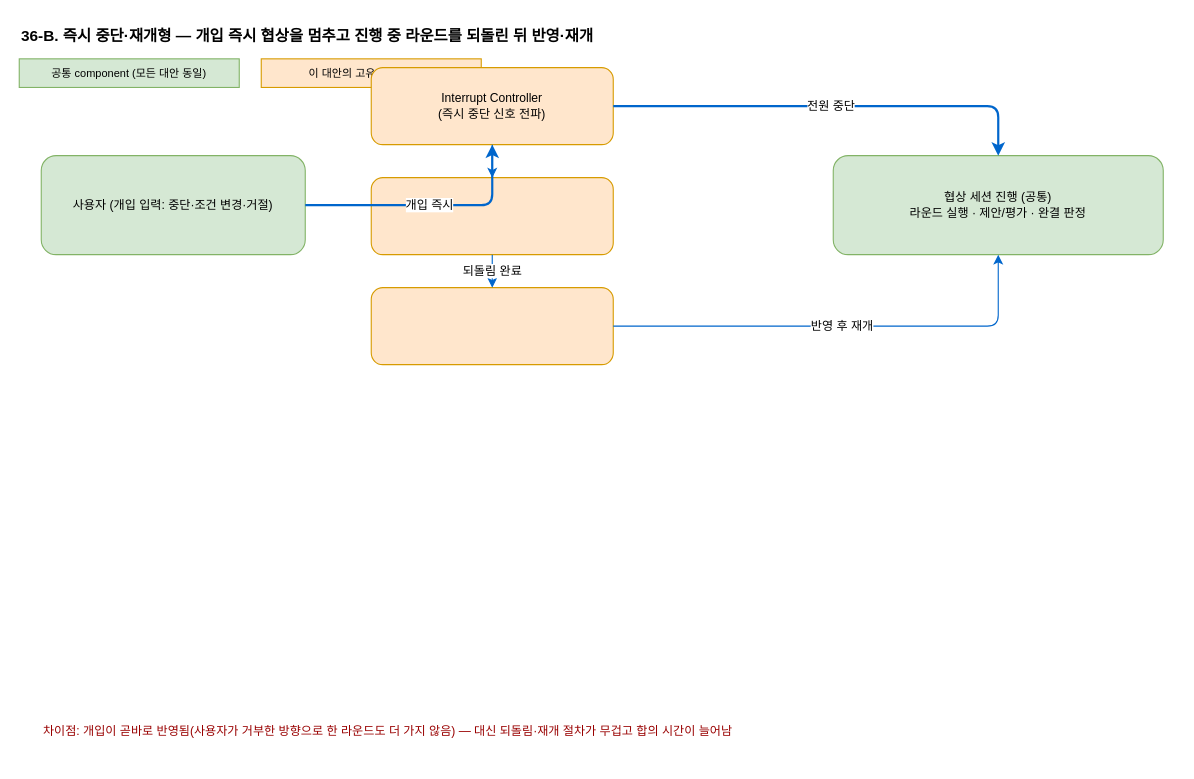
This 1194x779 diagram has some shape labels left out. The centre of each missing label's shape, as x and y in pixels:
"Resume Coordinator (입력 반영 후 전원 재시작 합의)" belongs at (491,326).
"Rollback Manager (undo log로 진행 중 라운드 무효화)" belongs at (491,216).
